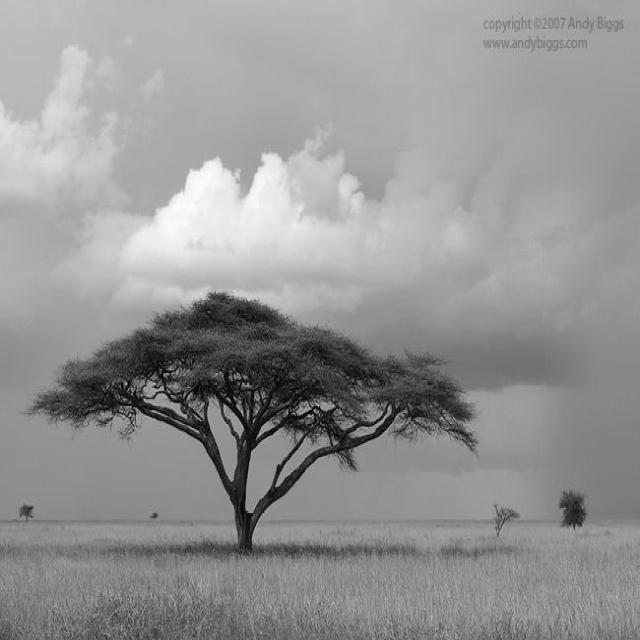Acacia: (54, 274, 480, 549)
